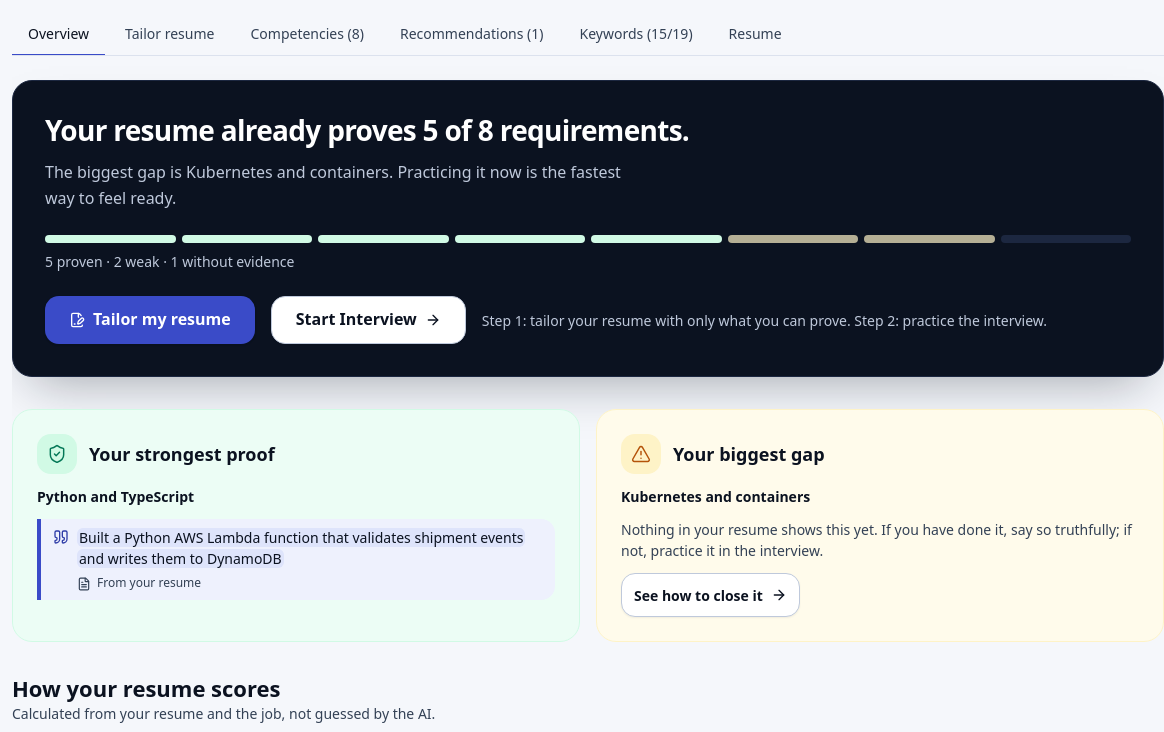
WorkingResume (Req 7.7) › is reachable as a Resume tab in the workspace
The width and height of the screenshot is (1164, 732).
Click the tab "Resume": (755, 34) [713, 12, 798, 56]
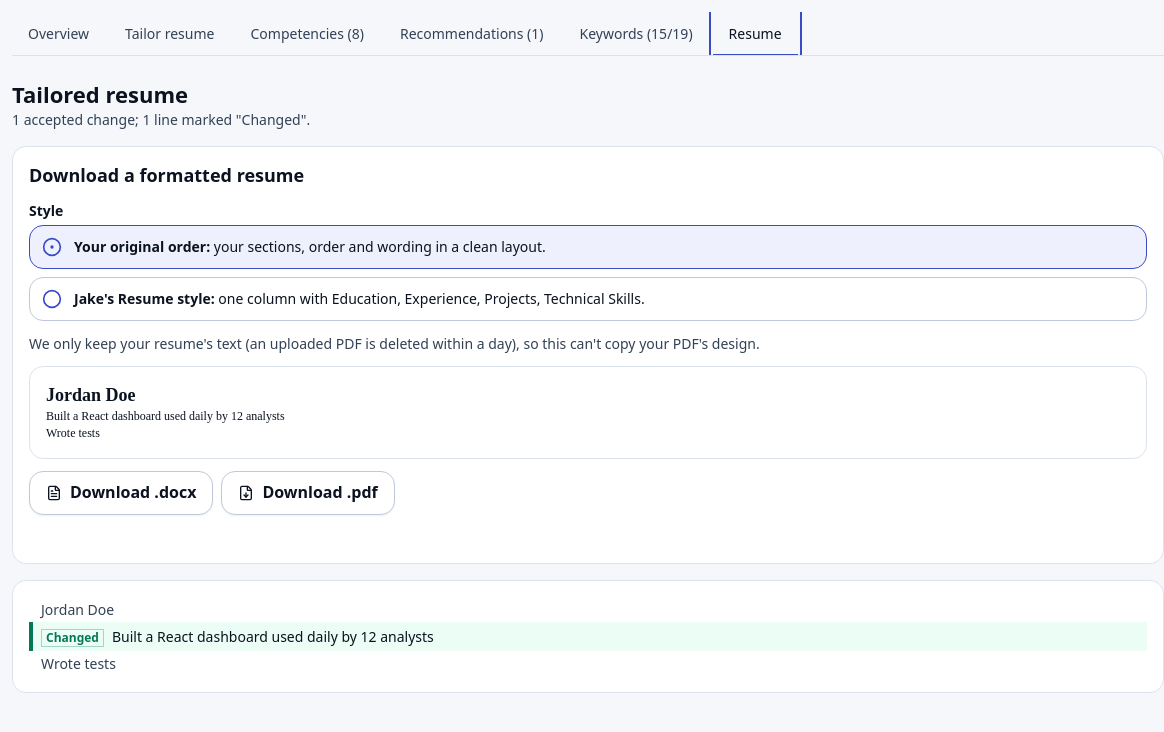
Result: the heading "Tailored resume" is shown at [12, 79, 188, 109]
